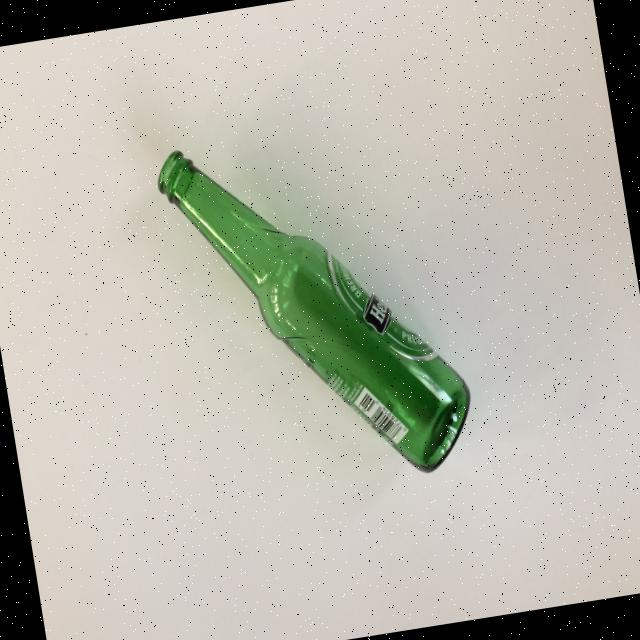glass: (152, 110, 482, 508)
